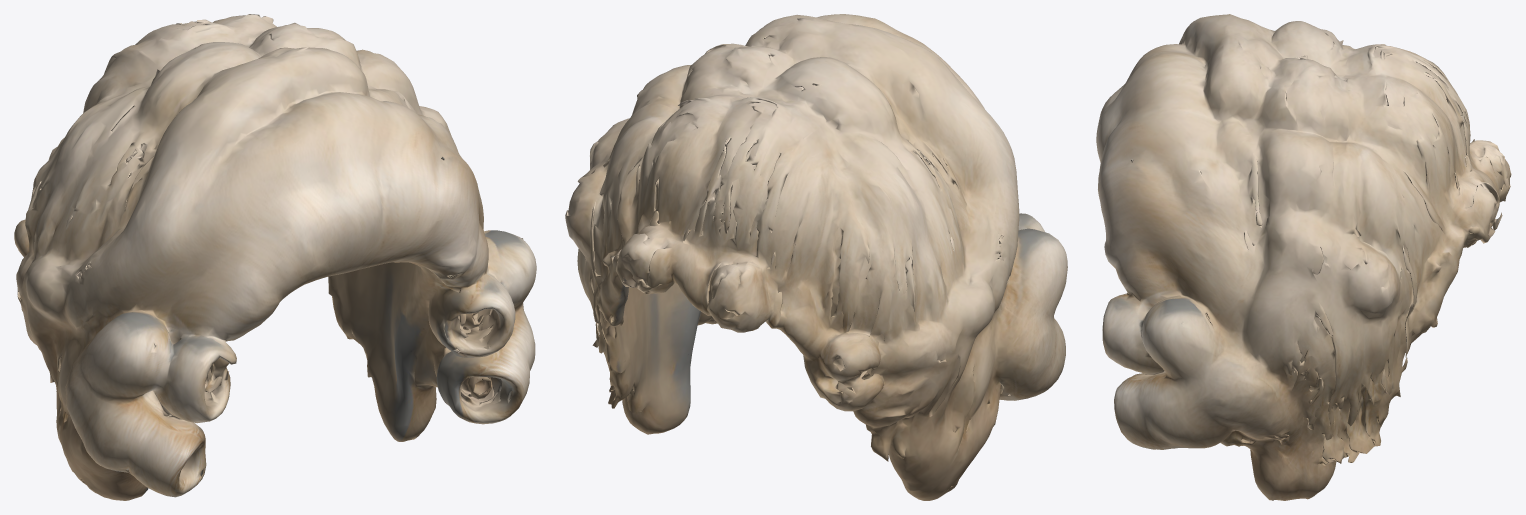
File: jazz-wig.glb
The picture shows the model from 3 angles, left to right: view 1: azimuth 30°, elevation 25°; view 2: azimuth 150°, elevation 25°; view 3: azimuth 270°, elevation 25°; orthographic projection. The views are drawn at different scales.
Parts seen in each view (by area): view 1: tripo_node_c99139fe-0b4e-4595-9ce9-da4fb51c4dad; view 2: tripo_node_c99139fe-0b4e-4595-9ce9-da4fb51c4dad; view 3: tripo_node_c99139fe-0b4e-4595-9ce9-da4fb51c4dad.
Part boxes in pixels (box(x1,y1,x2,y2)): tripo_node_c99139fe-0b4e-4595-9ce9-da4fb51c4dad: box(14, 14, 536, 500); tripo_node_c99139fe-0b4e-4595-9ce9-da4fb51c4dad: box(565, 14, 1067, 500); tripo_node_c99139fe-0b4e-4595-9ce9-da4fb51c4dad: box(1096, 14, 1511, 500).
Bounding box in the file's own units: 1.51 × 1.42 × 1.33.
1 material, 1 textured.
